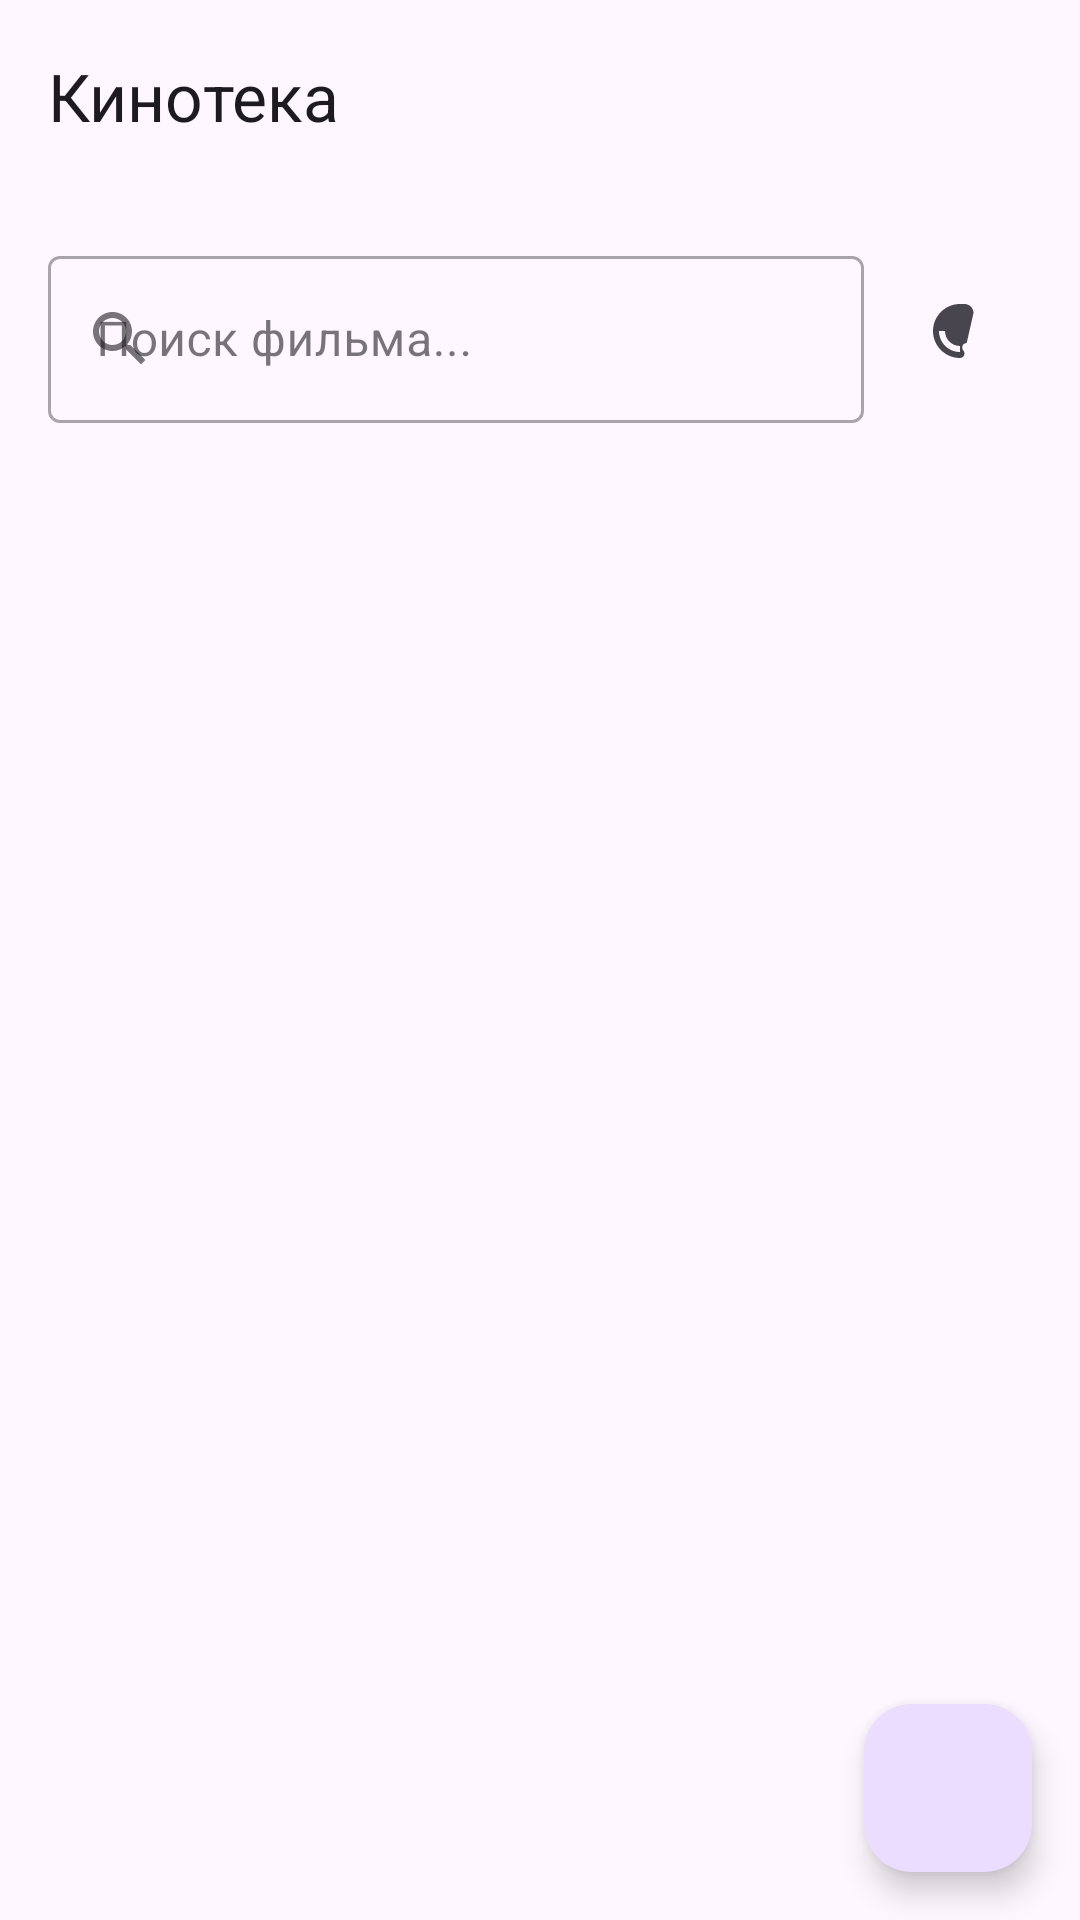

Locate icon controls on the screen. Image size 1080px×1920px, boxes as (x1, y1, x2, y2).
Переключить тему: (933, 304, 974, 358)
